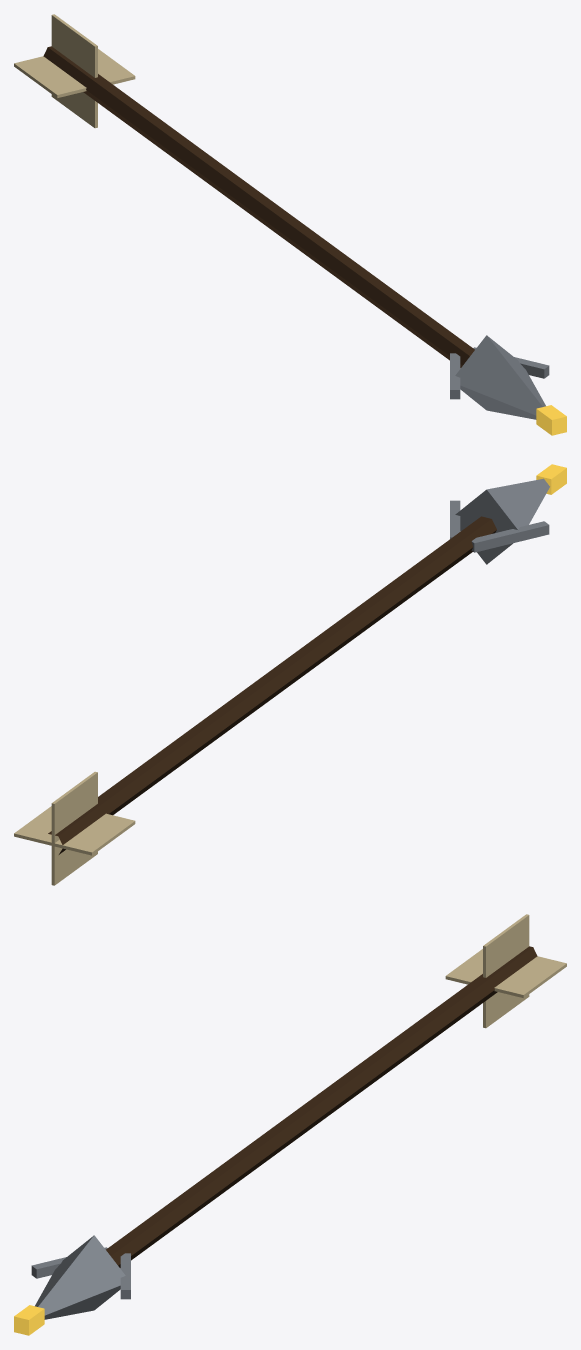
Rendered from dk_ballista_bolt.glb.
The picture shows the model from 3 angles, top to bottom: view 1: azimuth 30°, elevation 25°; view 2: azimuth 150°, elevation 25°; view 3: azimuth 330°, elevation 25°; orthographic projection.
Parts seen in each view (by area): view 1: dk_ballista_bolt; view 2: dk_ballista_bolt; view 3: dk_ballista_bolt.
Part boxes in pixels (x1,y1,x2,y2): dk_ballista_bolt: (14,14,566,435); dk_ballista_bolt: (14,464,566,885); dk_ballista_bolt: (14,914,566,1335).
Bounding box in the file's own units: 0.662 × 0.52 × 5.84.
2 materials, 2 textured.
